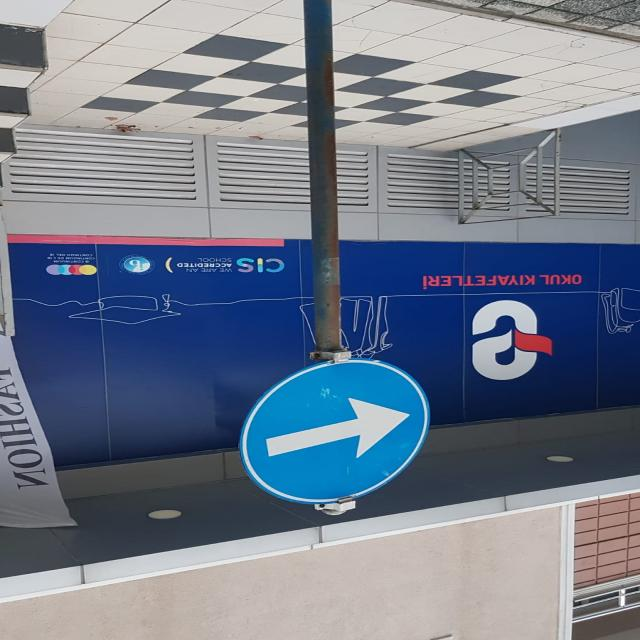Turn Right: (237, 362, 439, 515)
